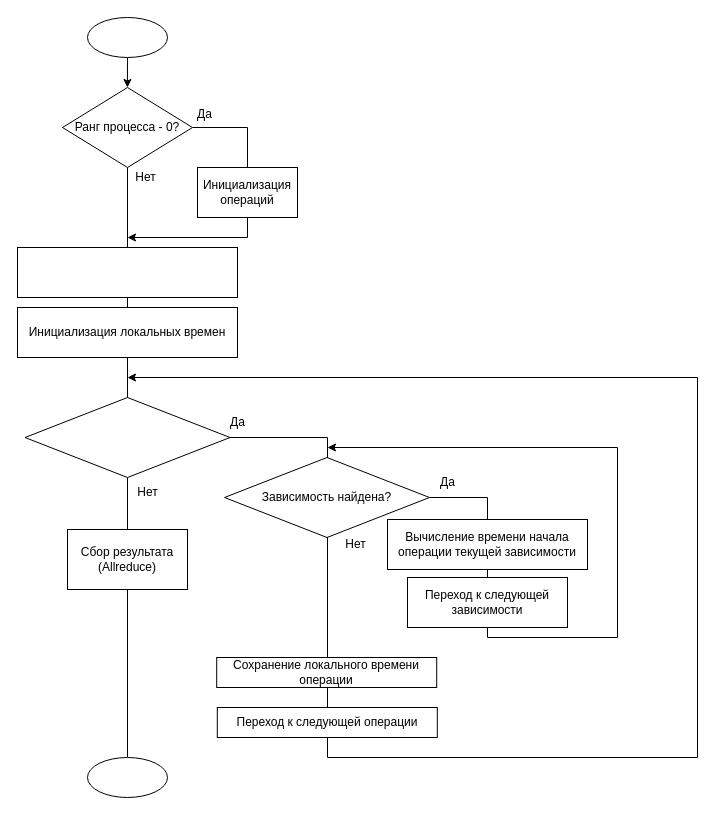
Some shapes in this 723 by 815 pixel diagram are drawn without their labels. Each missing label, with the box of its shape:
Были рассмотрены еще не все операции?: (24, 396, 230, 478)
Конец: (86, 756, 168, 798)
Начало: (86, 16, 168, 58)
Передача информации об операциях по средствам функций Bcast: (16, 246, 238, 298)
